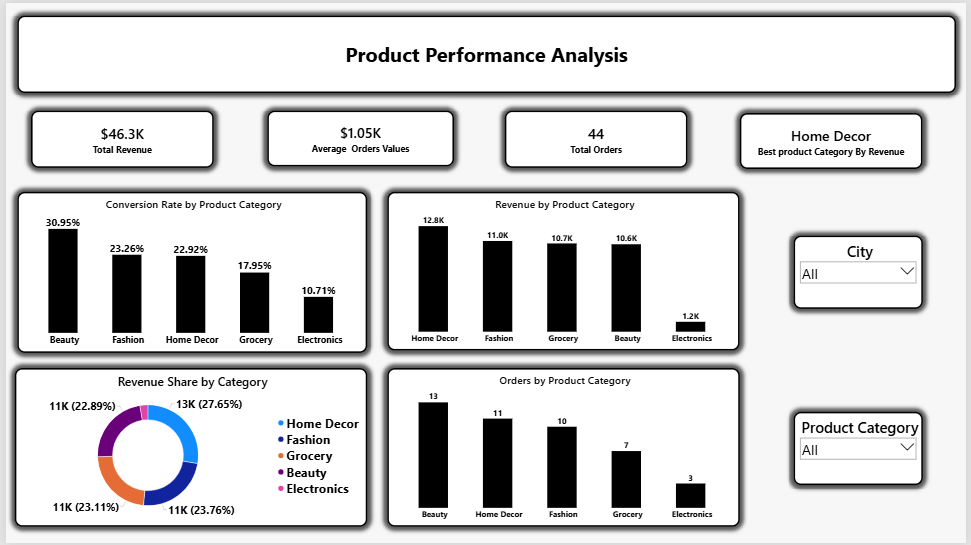

The page's visual inventory and layout, read from the dashboard file:
{"tool":"powerbi","page":{"name":"Product Performance Analysis","canvas":[3840,2160],"ordinal":1},"visuals":[{"type":"textbox","box":[320,47.5,1472.5,92.5],"z":0},{"type":"card","fields":{"Values":["ecommerce_Cleaned_data.Total Revenue"]},"box":[101.4,432.5,731.5,229.6],"z":1000},{"type":"shape","box":[45,50,3755,310],"z":2000},{"type":"card","fields":{"Values":["ecommerce_Cleaned_data.Total Orders"]},"box":[1996.9,432.5,731.5,229.6],"z":3000},{"type":"card","fields":{"Values":["ecommerce_Cleaned_data.Best product Category"]},"box":[2936.6,437.8,731.5,224.3],"z":4000},{"type":"donutChart","title":"Revenue Share by Category","fields":{"Category":["ecommerce_Cleaned_data.product_category"],"Y":["Sum(ecommerce_Cleaned_data.revenue)"]},"box":[35,1460,1410,635],"z":5000},{"type":"columnChart","title":"Orders by Product Category","fields":{"Category":["ecommerce_Cleaned_data.product_category"],"Y":["ecommerce_Cleaned_data.Total Orders"]},"box":[1525,1460,1410,635],"z":6000},{"type":"columnChart","title":"Revenue by Product Category","fields":{"Category":["ecommerce_Cleaned_data.product_category"],"Y":["Sum(ecommerce_Cleaned_data.revenue)"]},"box":[1527.1,752.8,1409.6,635.4],"z":7000},{"type":"columnChart","title":"Conversion Rate by Product Category","fields":{"Category":["ecommerce_Cleaned_data.product_category"],"Y":["ecommerce_Cleaned_data.Conversion Rate"]},"box":[45,755,1400,645],"z":8000},{"type":"slicer","title":"City","fields":{"Values":["ecommerce_Cleaned_data.city"]},"box":[3150.2,929,517.9,293.7],"z":9000},{"type":"slicer","title":"Product Category","fields":{"Values":["ecommerce_Cleaned_data.product_category"]},"box":[3150.2,1633.8,517.9,293.7],"z":10000},{"type":"card","fields":{"Values":["ecommerce_Cleaned_data.Average Order Value"]},"box":[1046.5,432.5,747.5,224.3],"z":11000}]}

Visuals, with their boxes in screenshot pixels (x1, y1, x2, y2), scaled from the page's 3840x2160 canvas onto the 971x545 screenshot:
textbox: (left=81, top=12, right=453, bottom=35)
card - ecommerce_Cleaned_data.Total Revenue: (left=26, top=109, right=211, bottom=167)
shape: (left=11, top=13, right=961, bottom=91)
card - ecommerce_Cleaned_data.Total Orders: (left=505, top=109, right=690, bottom=167)
card - ecommerce_Cleaned_data.Best product Category: (left=743, top=110, right=928, bottom=167)
"Revenue Share by Category" donutChart: (left=9, top=368, right=365, bottom=529)
"Orders by Product Category" columnChart: (left=386, top=368, right=742, bottom=529)
"Revenue by Product Category" columnChart: (left=386, top=190, right=743, bottom=350)
"Conversion Rate by Product Category" columnChart: (left=11, top=190, right=365, bottom=353)
"City" slicer: (left=797, top=234, right=928, bottom=309)
"Product Category" slicer: (left=797, top=412, right=928, bottom=486)
card - ecommerce_Cleaned_data.Average Order Value: (left=265, top=109, right=454, bottom=166)
